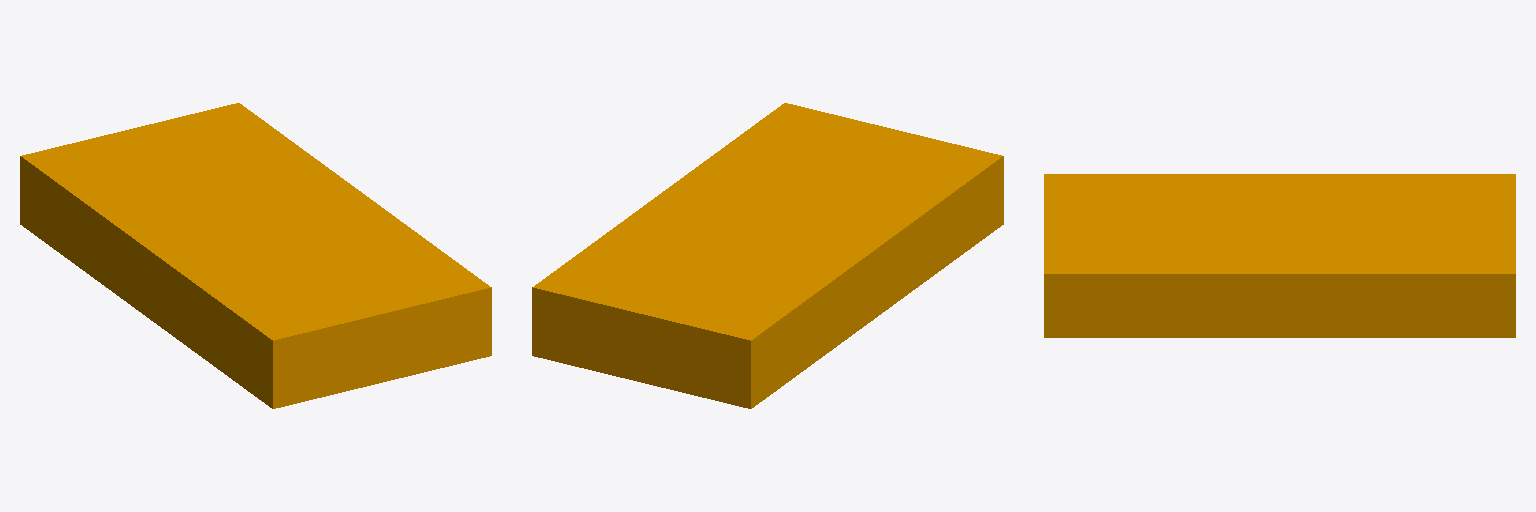
robot.urdf — shelf_model:
<robot name="shelf_model">
  <link name="shelf">
    <inertial>
      <mass value="5.0" />
      <!-- center of mass (com) is defined w.r.t. link local coordinate system -->
      <origin xyz="0 0 0.1" />
      <inertia  ixx="0.1" ixy="0.0"  ixz="0.0"  iyy="0.1"  iyz="0.0"  izz="0.1" />
    </inertial>
    <visual>
      <!-- visual origin is defined w.r.t. link local coordinate system -->
      <origin xyz="0 0 0.25" rpy="0 0 0" />
      <geometry>
        <mesh filename="shelf.obj"/>
      </geometry>
    </visual>
    <collision>
      <!-- collision origin is defined w.r.t. link local coordinate system -->
      <origin xyz="0 0 0.25" rpy="0 0 0" />
      <geometry>
        <mesh filename="shelf.obj"/>
      </geometry>
    </collision>
  </link>
  <gazebo reference="shelf">
    <turnGravityOff>false</turnGravityOff>
    <genTexCoord>true</genTexCoord>
    <kp>100000000.0</kp>
    <kd>10000.0</kd>
  </gazebo>
</robot>

--- Render facts (derived) ---
The picture shows the robot from 3 angles, left to right: view 1: azimuth 30°, elevation 25°; view 2: azimuth 150°, elevation 25°; view 3: azimuth 270°, elevation 25°; orthographic projection.
Model shelf_model with 1 links and 0 joints (none), rooted at shelf, posed all joints at 0.
Visible links, largest first — view 1: shelf; view 2: shelf; view 3: shelf.
Link boxes in pixels (box(x1,y1,x2,y2)): shelf: box(20, 103, 491, 408); shelf: box(532, 103, 1003, 408); shelf: box(1044, 174, 1515, 337).
Size in the robot's own frame: 1 by 2 by 0.3 metres.
Meshes: 1 distinct files referenced, 1 mesh visuals loaded (1 OBJ).